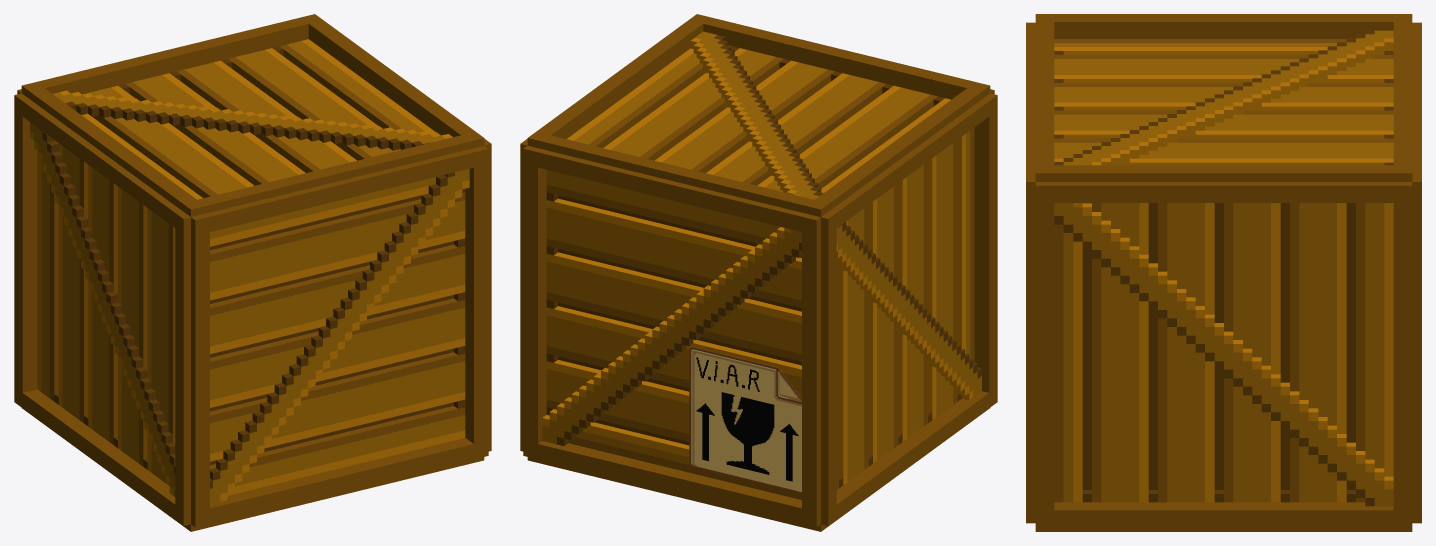
The model's file is viarCrate5.fbx.
3 renders of one model, left to right at view 1: azimuth 30°, elevation 25°; view 2: azimuth 150°, elevation 25°; view 3: azimuth 270°, elevation 25°, orthographic. The views are drawn at different scales.
Parts seen in each view (by area): view 1: viarCrate1_002, viarCrate1_004, viarCrate1_003, viarCrate1, viarCrate1_005; view 2: viarCrate1_001, viarCrate1_004, viarCrate1_003, viarCrate1, viarCrate1_005; view 3: viarCrate1_005, viarCrate1_003, viarCrate1_002, viarCrate1_001, viarCrate1.
Part boxes in pixels (<box>): viarCrate1_002: <box>191,145,488,527</box>; viarCrate1_004: <box>14,93,190,525</box>; viarCrate1_003: <box>21,14,484,216</box>; viarCrate1: <box>22,408,484,531</box>; viarCrate1_005: <box>484,138,491,451</box>; viarCrate1_001: <box>523,145,820,527</box>; viarCrate1_004: <box>821,93,997,525</box>; viarCrate1_003: <box>527,14,990,216</box>; viarCrate1: <box>527,408,989,531</box>; viarCrate1_005: <box>520,138,527,451</box>; viarCrate1_005: <box>1035,182,1412,527</box>; viarCrate1_003: <box>1035,14,1412,181</box>; viarCrate1_002: <box>1026,22,1035,523</box>; viarCrate1_001: <box>1412,22,1421,523</box>; viarCrate1: <box>1035,527,1412,531</box>.
Bounding box in the file's own units: 42 × 42 × 42.
